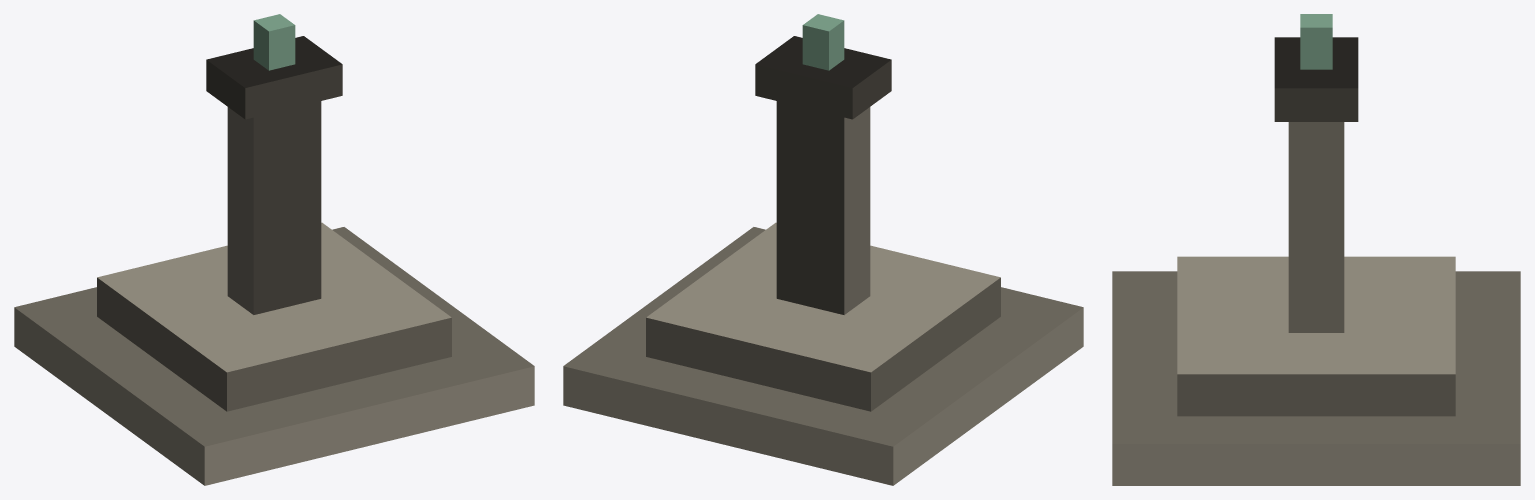
The model's file is bld_altar.glb.
3 renders of one model, left to right at view 1: azimuth 30°, elevation 25°; view 2: azimuth 150°, elevation 25°; view 3: azimuth 270°, elevation 25°, orthographic. The views are drawn at different scales.
Visible parts, largest first — view 1: bld_altar; view 2: bld_altar; view 3: bld_altar.
Boxes of the visible parts, left/top/right/bottom form: bld_altar: left=14, top=14, right=534, bottom=485; bld_altar: left=563, top=14, right=1083, bottom=485; bld_altar: left=1112, top=14, right=1520, bottom=485.
Size of the model in its own units: 0.88 by 0.9 by 0.88.
Materials: 1 (1 with a texture image).
